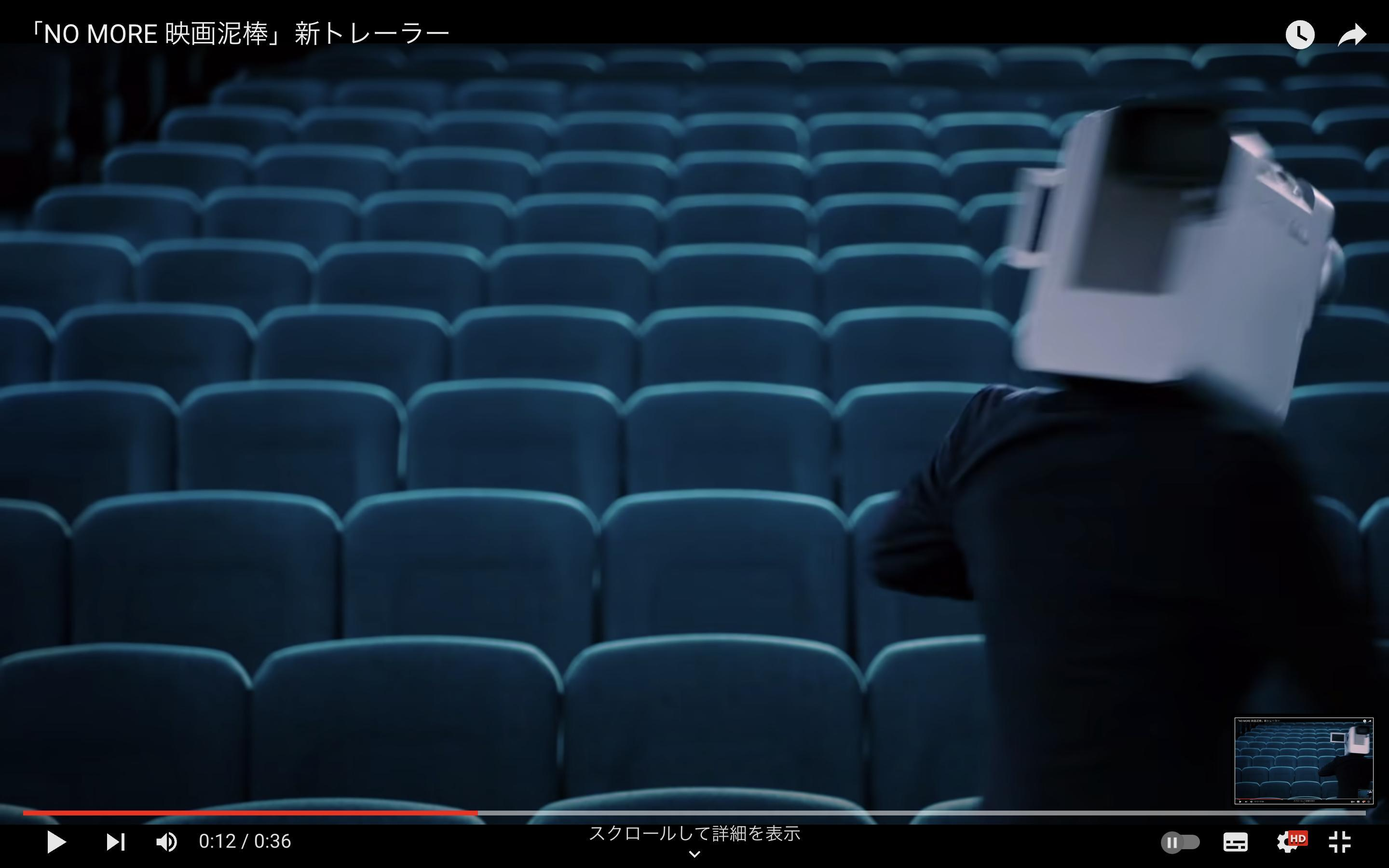no more kid: (984, 72, 1367, 445)
